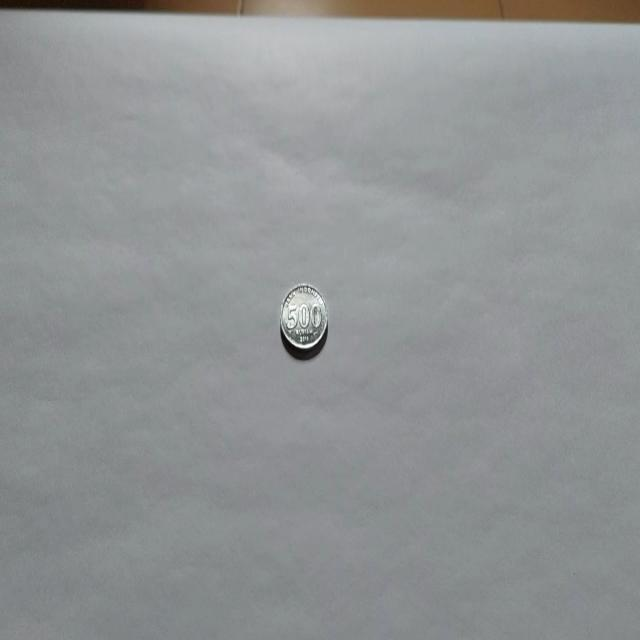lima ratus rupiah: (279, 280, 328, 358)
